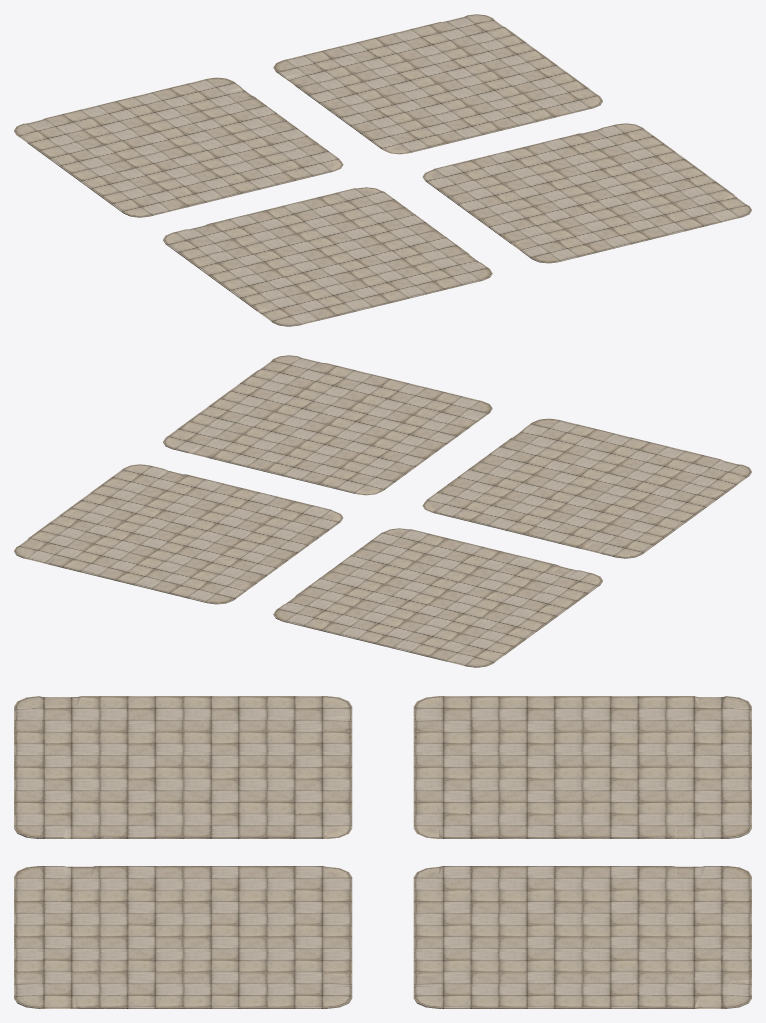
File: SmallBlock_ConcreteBlock.fbx
The picture shows the model from 3 angles, top to bottom: view 1: azimuth 30°, elevation 25°; view 2: azimuth 150°, elevation 25°; view 3: azimuth 270°, elevation 25°; orthographic projection. The views are drawn at different scales.
Parts seen in each view (by area): view 1: PlayUp_SmallBlock_ConcreteBlock; view 2: PlayUp_SmallBlock_ConcreteBlock; view 3: PlayUp_SmallBlock_ConcreteBlock.
Boxes of the visible parts, x1=… form: PlayUp_SmallBlock_ConcreteBlock: x1=14, y1=14, x2=751, y2=326; PlayUp_SmallBlock_ConcreteBlock: x1=14, y1=355, x2=751, y2=667; PlayUp_SmallBlock_ConcreteBlock: x1=14, y1=696, x2=751, y2=1008.
Size of the model in its own units: 72.74 by 0.105 by 72.74.
